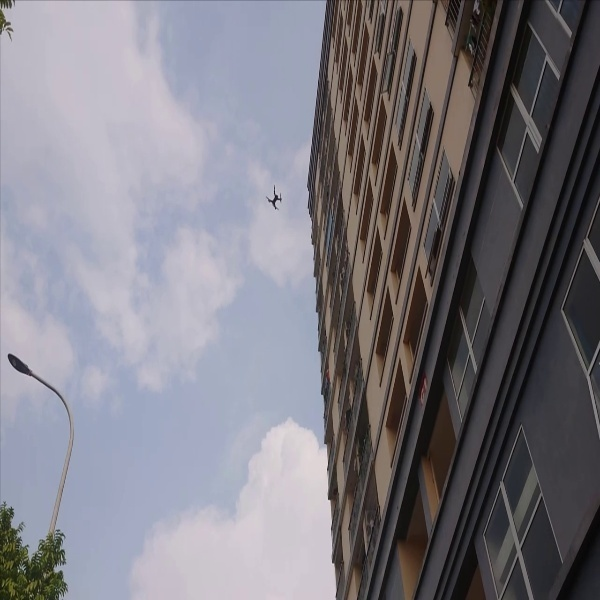drone: (259, 178, 293, 214)
